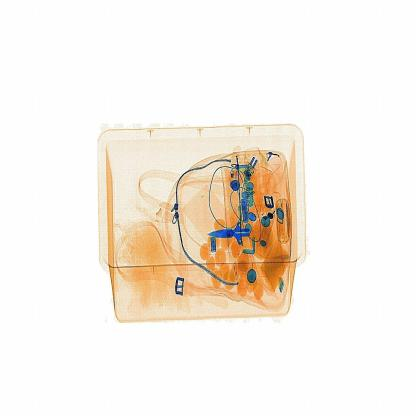gun: (203, 198, 271, 263)
